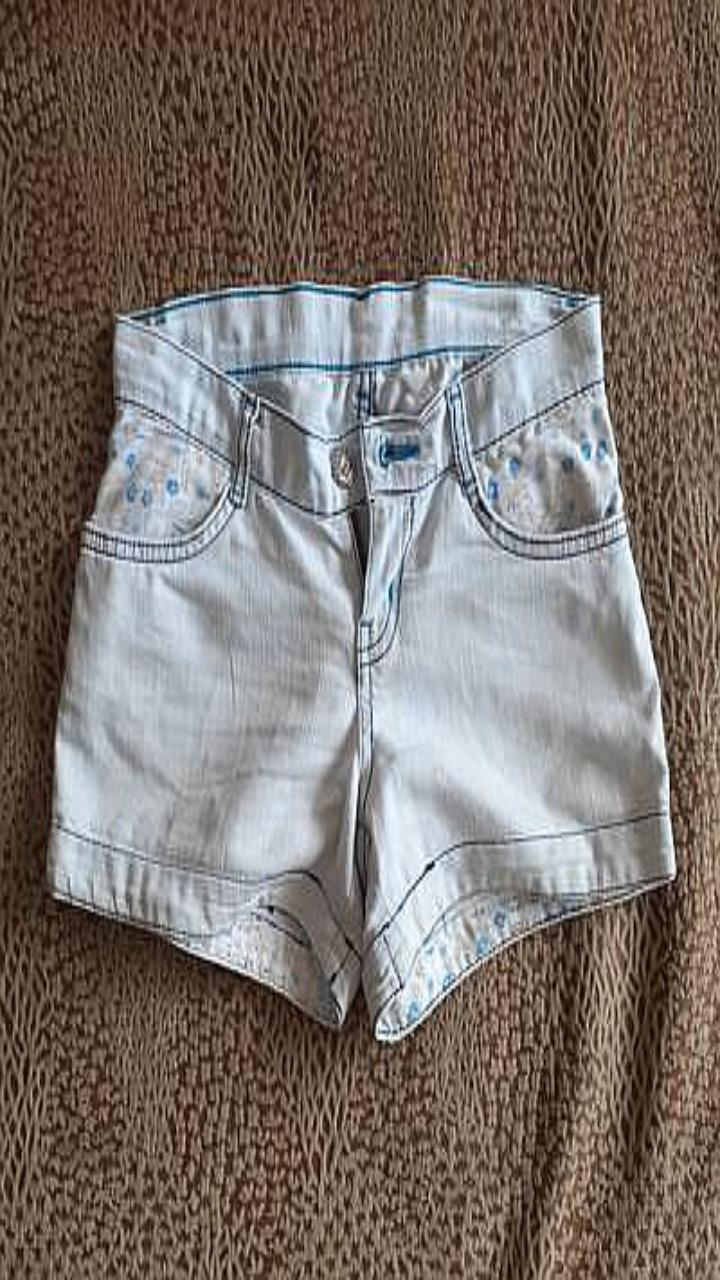Shorts: (47, 276, 675, 1040)
